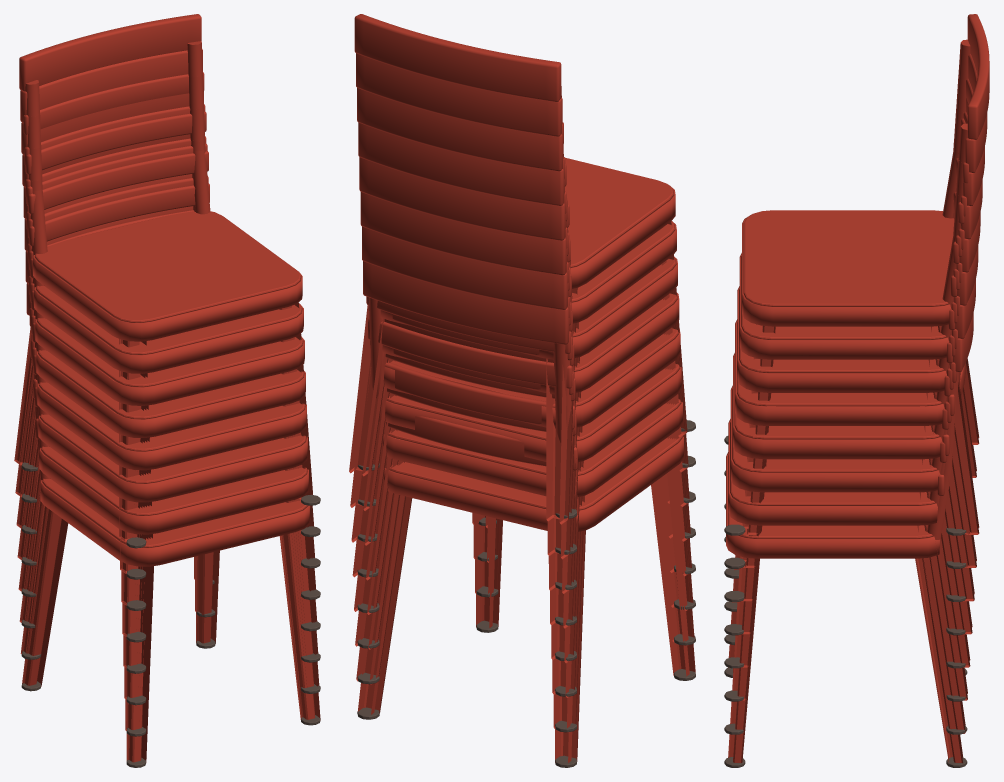
File: SM_PlasticChairStack_8.glb
3 renders of one model, left to right at view 1: azimuth 30°, elevation 25°; view 2: azimuth 150°, elevation 25°; view 3: azimuth 270°, elevation 25°, orthographic. The views are drawn at different scales.
Visible parts, largest first — view 1: SM_PlasticChairStack_8; view 2: SM_PlasticChairStack_8; view 3: SM_PlasticChairStack_8.
Part boxes in pixels (x1,y1,x2,y2): SM_PlasticChairStack_8: (14, 14, 320, 767); SM_PlasticChairStack_8: (349, 14, 695, 767); SM_PlasticChairStack_8: (724, 14, 989, 767).
Size of the model in its own units: 0.3953 by 1.23 by 0.4495.
